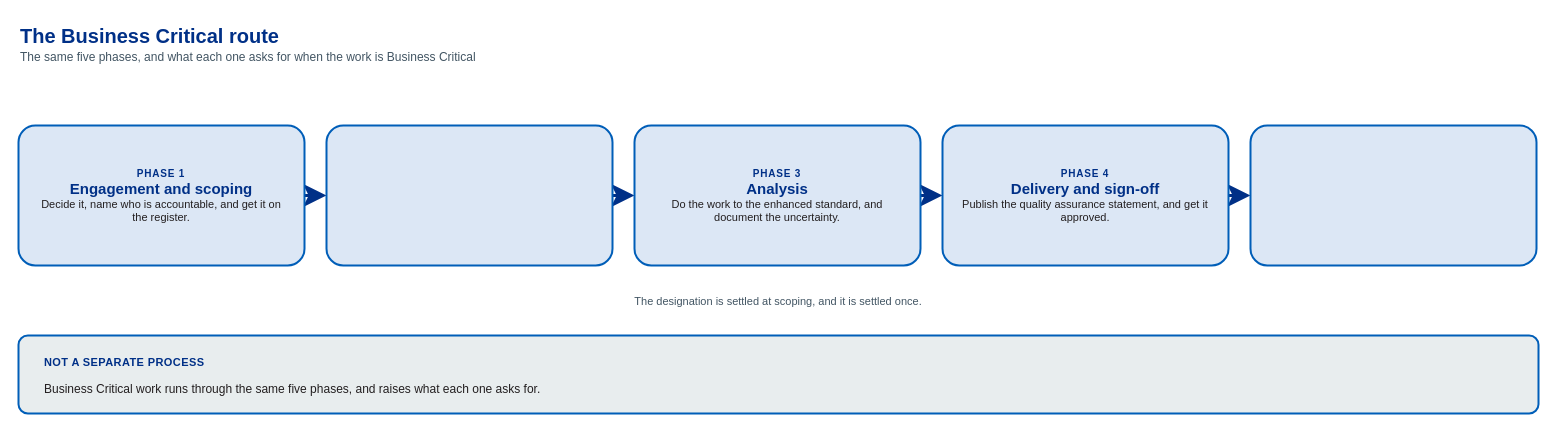
Image size: 1556x431. Some labels were removed from this diagram. Here are the shapes that lost their labels. From the top down, the box of each, then its label:
(325, 124, 613, 266): PHASE 2 Design Plan what Level 4 BCA asks for, and the documentation it needs.
(1249, 124, 1537, 266): PHASE 5 Review Set a review date, and revalidate the designation.
